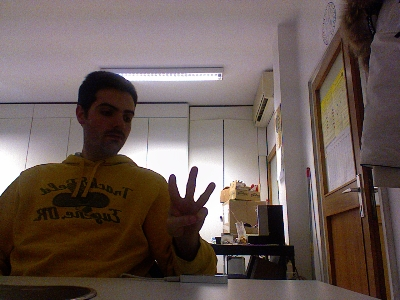三分: (165, 164, 216, 244)
